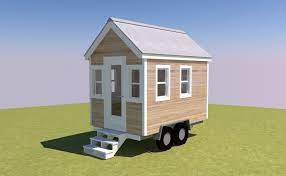Tin-shade House: (80, 17, 215, 143)
